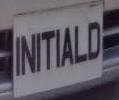1: (54, 27, 63, 72), (13, 34, 21, 80), (35, 30, 43, 74)
A: (61, 24, 75, 69)
D: (86, 20, 102, 63)
L: (73, 22, 88, 66)
N: (20, 29, 37, 82)
T: (40, 28, 56, 75)
